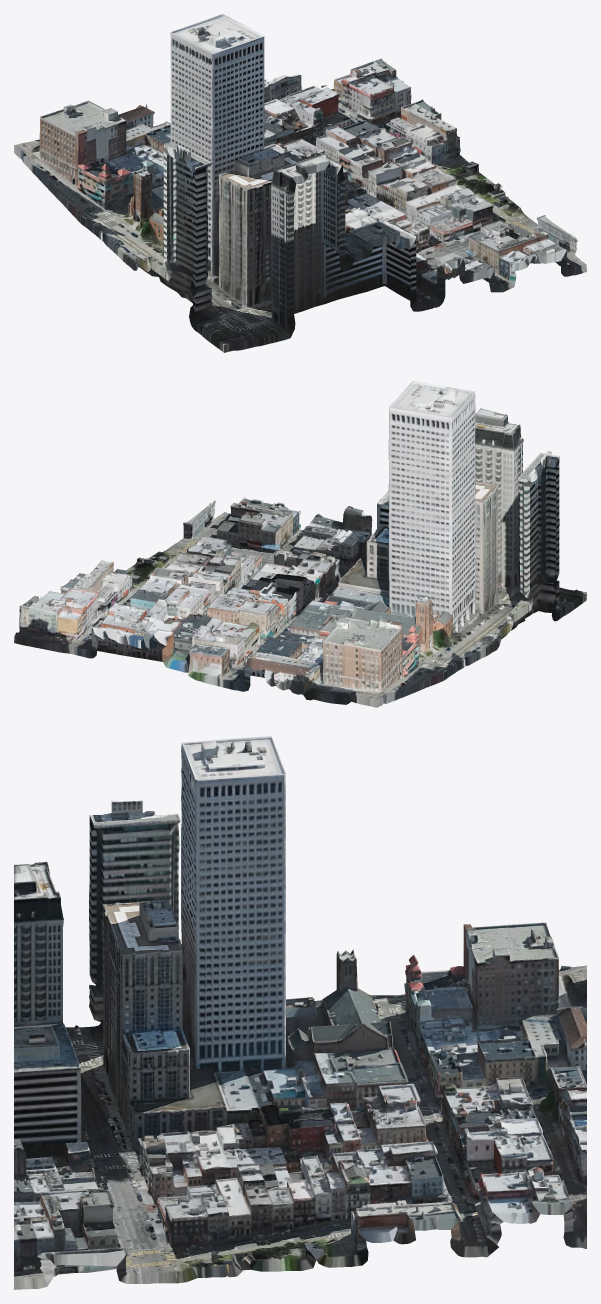
File: z17-20969-50653-h0-yup-uvflip-v3-world.glb
3 views of the same model, one above another, from view 1: azimuth 30°, elevation 25°; view 2: azimuth 150°, elevation 25°; view 3: azimuth 270°, elevation 25° (orthographic). The views are drawn at different scales.
Size of the model in its own units: 242 by 164 by 243.
Materials: 1 (1 with a texture image).
